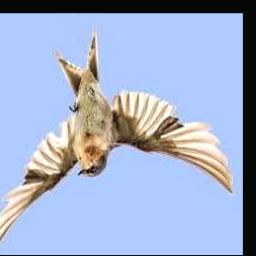Swallow: (0, 26, 235, 247)
